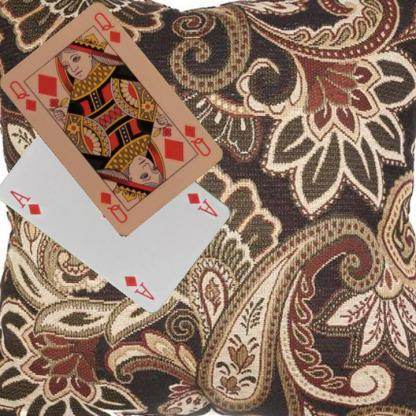Ad: (7, 187, 42, 217), (185, 190, 219, 218)
Qd: (173, 122, 212, 158), (5, 78, 38, 113)
